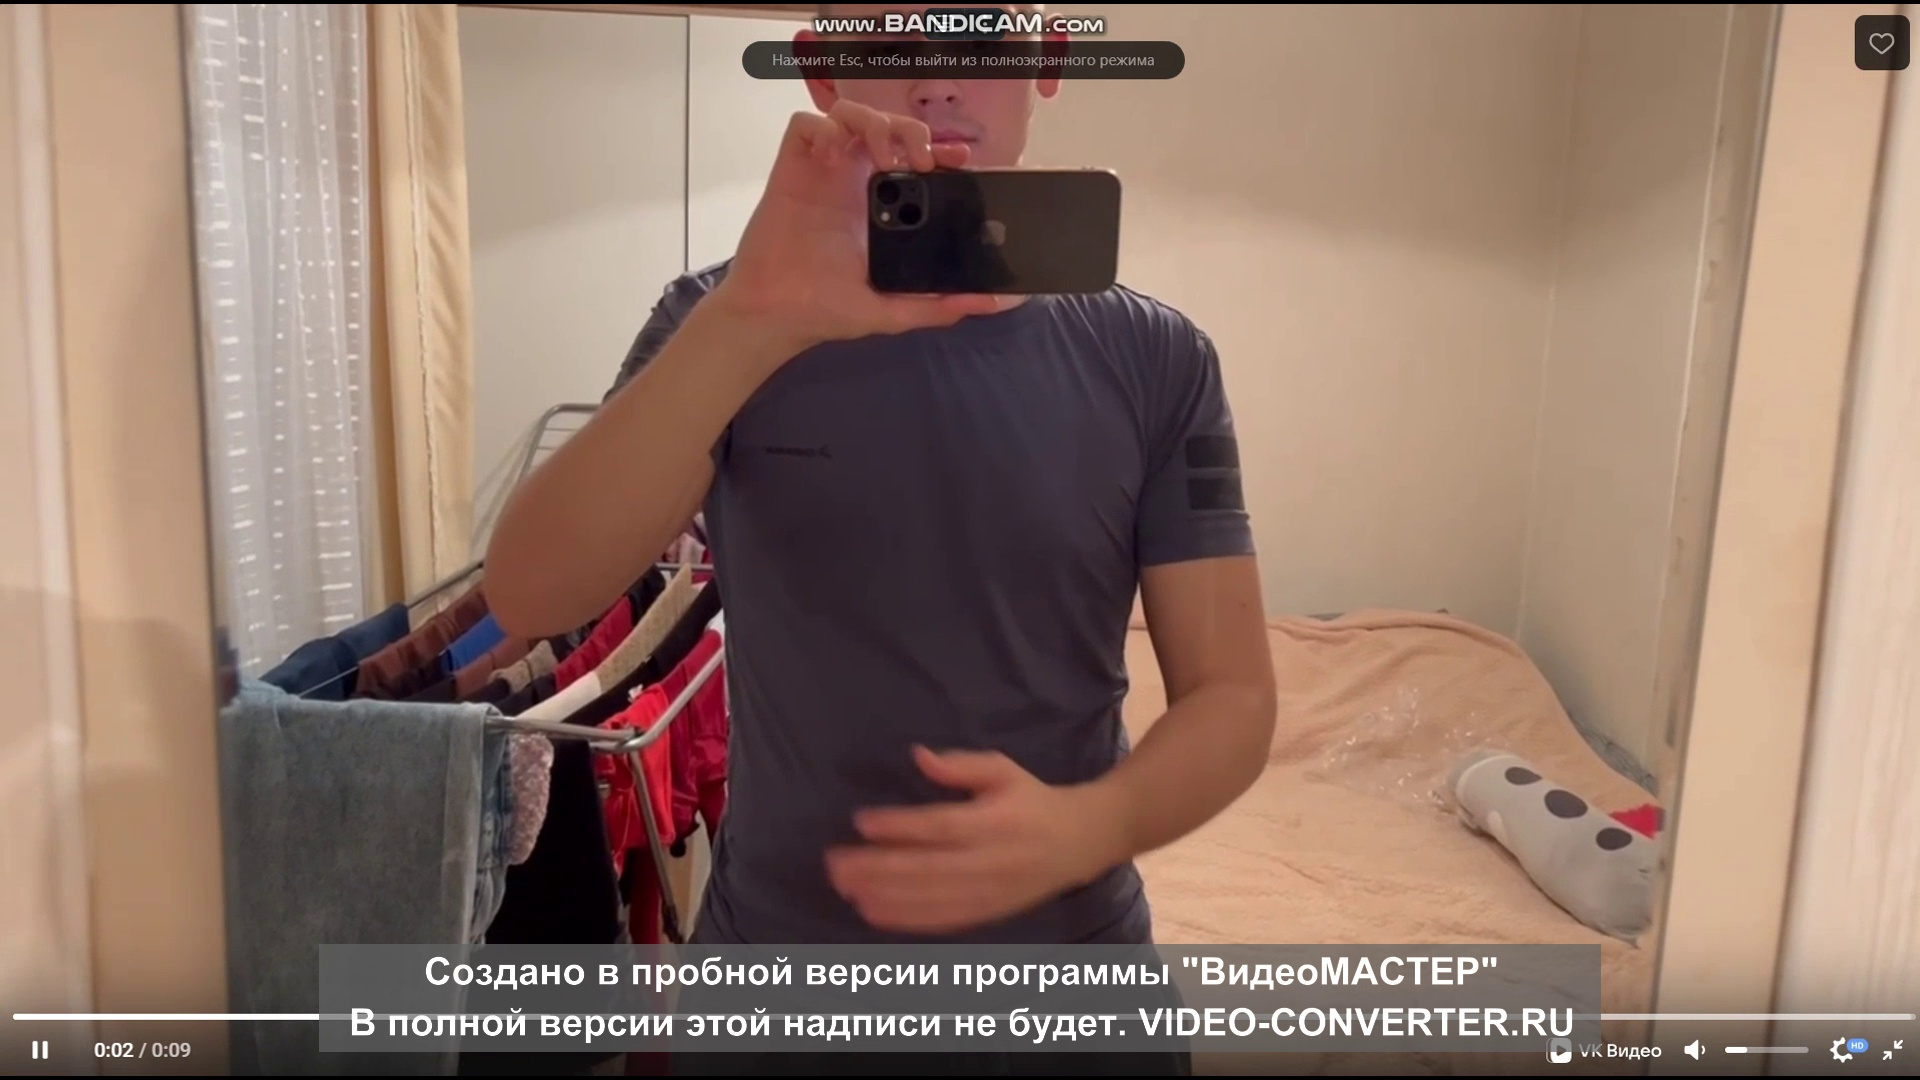Кисть: (825, 740, 1079, 935)
